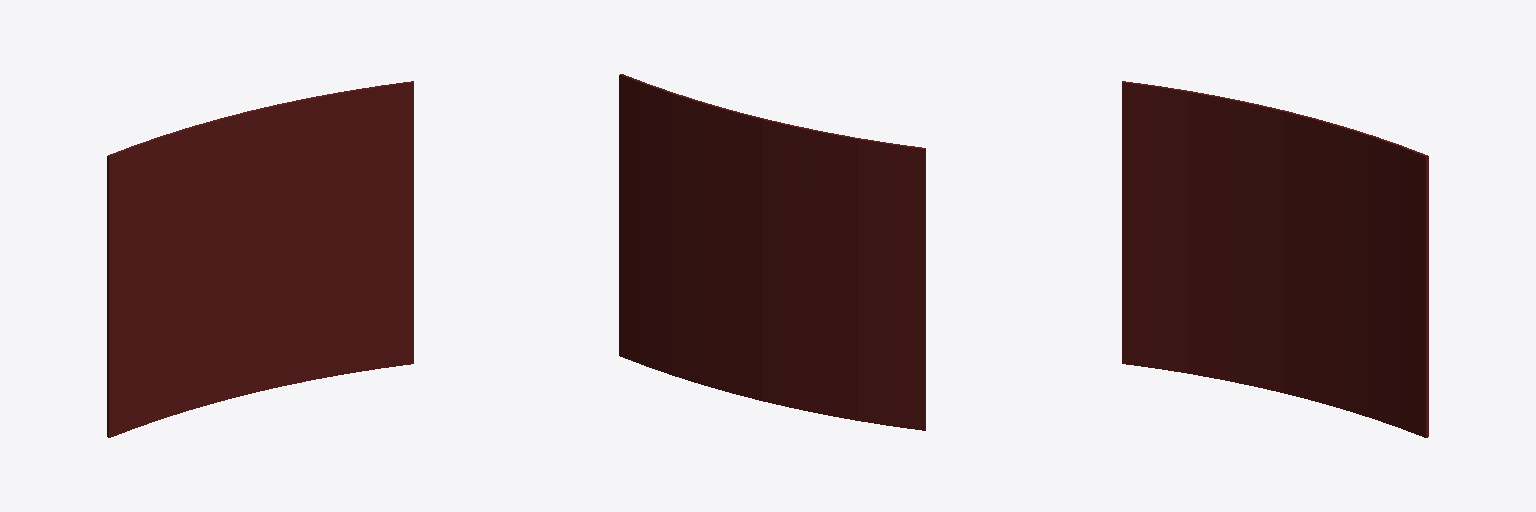
The model's file is seat_visual.obj.
The picture shows the model from 3 angles: view 1: azimuth 30°, elevation 25°; view 2: azimuth 150°, elevation 25°; view 3: azimuth 330°, elevation 25°; orthographic projection.
Parts seen in each view (by area): view 1: seat_visual.001; view 2: seat_visual.001; view 3: seat_visual.001.
Boxes of the visible parts, <box> form: seat_visual.001: <box>107,81,413,437</box>; seat_visual.001: <box>619,74,925,430</box>; seat_visual.001: <box>1122,81,1428,437</box>.
Size of the model in its own units: 0.4336 by 0.381 by 0.0294.